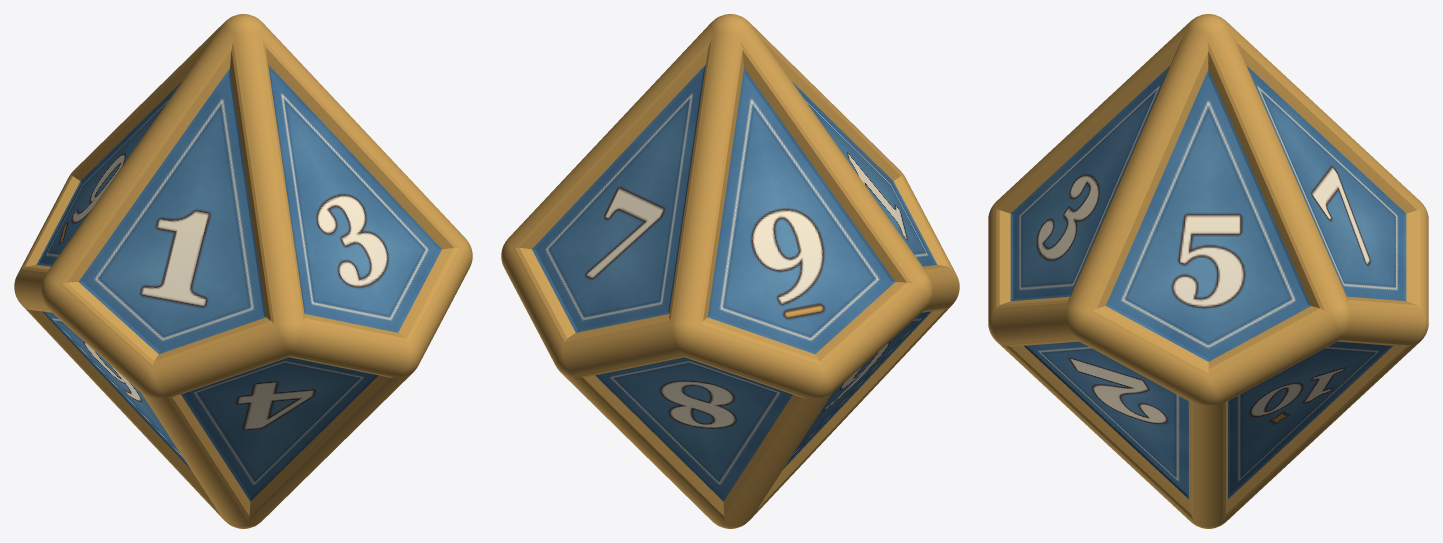
File: d10_skin.glb
The picture shows the model from 3 angles, left to right: view 1: azimuth 30°, elevation 25°; view 2: azimuth 150°, elevation 25°; view 3: azimuth 270°, elevation 25°; orthographic projection.
Visible parts, largest first — view 1: D10 · sea-mist ceramic; view 2: D10 · sea-mist ceramic; view 3: D10 · sea-mist ceramic.
Boxes of the visible parts, x1,y1,x2,y2 form: D10 · sea-mist ceramic: [14, 14, 472, 528]; D10 · sea-mist ceramic: [501, 14, 959, 528]; D10 · sea-mist ceramic: [988, 14, 1428, 528].
Size of the model in its own units: 1.64 by 2 by 1.57.
Materials: 2 (1 with a texture image).
